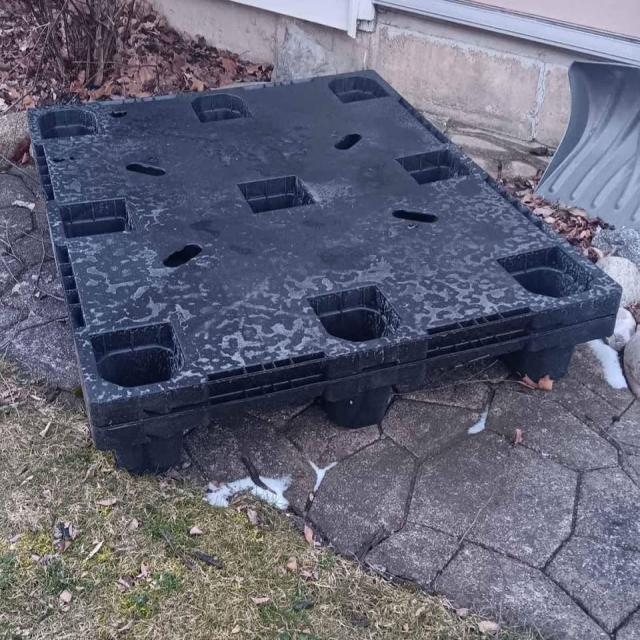non-igps: (21, 63, 625, 483)
